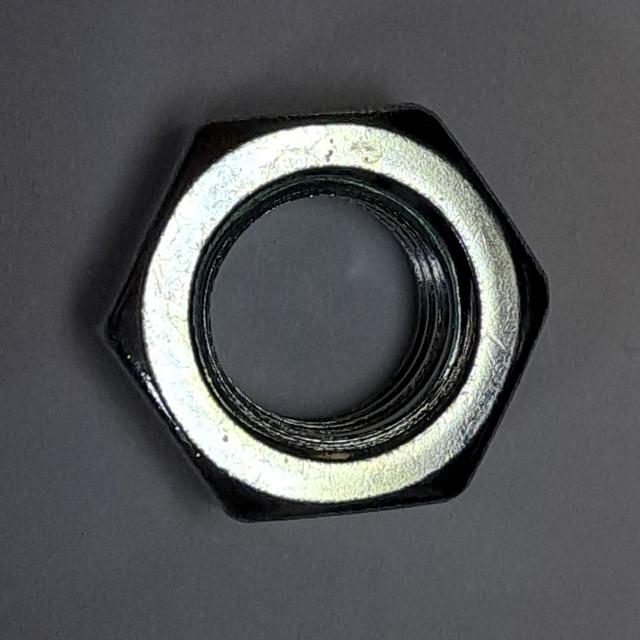Excellent: (75, 87, 560, 548)
